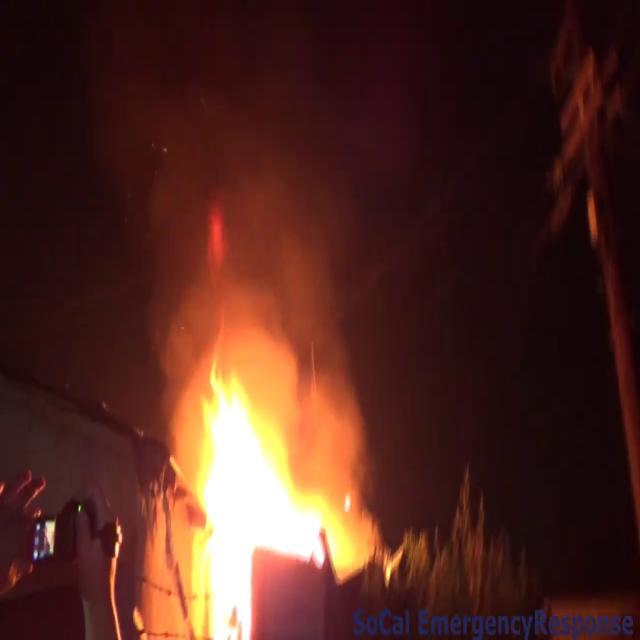Fire: (174, 357, 360, 635)
Smoke: (85, 0, 385, 396)
